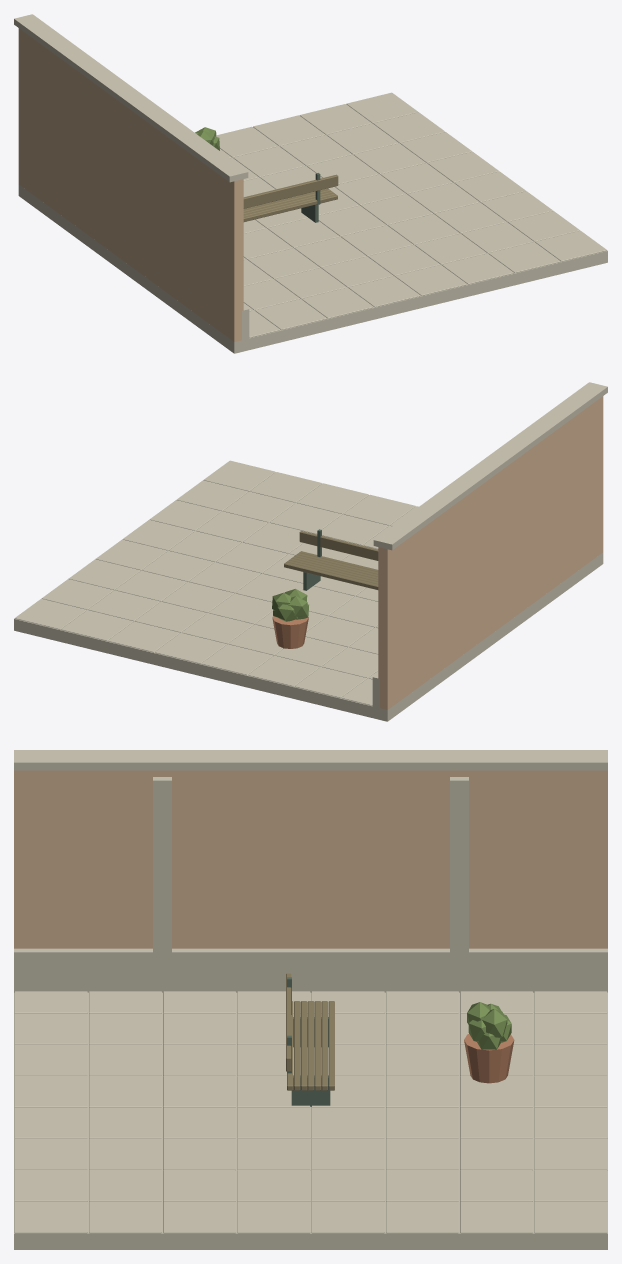
The model's file is district-0-1-0.glb.
3 views of the same model, one above another, from view 1: azimuth 30°, elevation 25°; view 2: azimuth 150°, elevation 25°; view 3: azimuth 270°, elevation 25° (orthographic). The views are drawn at different scales.
Parts seen in each view (by area): view 1: stone.003, plaster.003, wood.003; view 2: stone.003, plaster.003, wood.003, leaf.001, clay.001; view 3: stone.003, plaster.003, wood.003, clay.001, leaf.001, metal.002.
Part boxes in pixels (x1,y1,x2,y2): stone.003: [14, 14, 607, 353]; plaster.003: [18, 28, 243, 341]; wood.003: [243, 174, 338, 221]; stone.003: [14, 382, 607, 721]; plaster.003: [378, 396, 603, 709]; wood.003: [284, 531, 378, 589]; leaf.001: [272, 588, 308, 621]; clay.001: [272, 616, 308, 648]; stone.003: [14, 750, 607, 1249]; plaster.003: [14, 770, 607, 948]; wood.003: [286, 973, 334, 1090]; clay.001: [464, 1034, 514, 1083]; leaf.001: [467, 1002, 511, 1049]; metal.002: [287, 977, 330, 1106].
Bounding box in the file's own units: 8.1 × 3.65 × 8.
